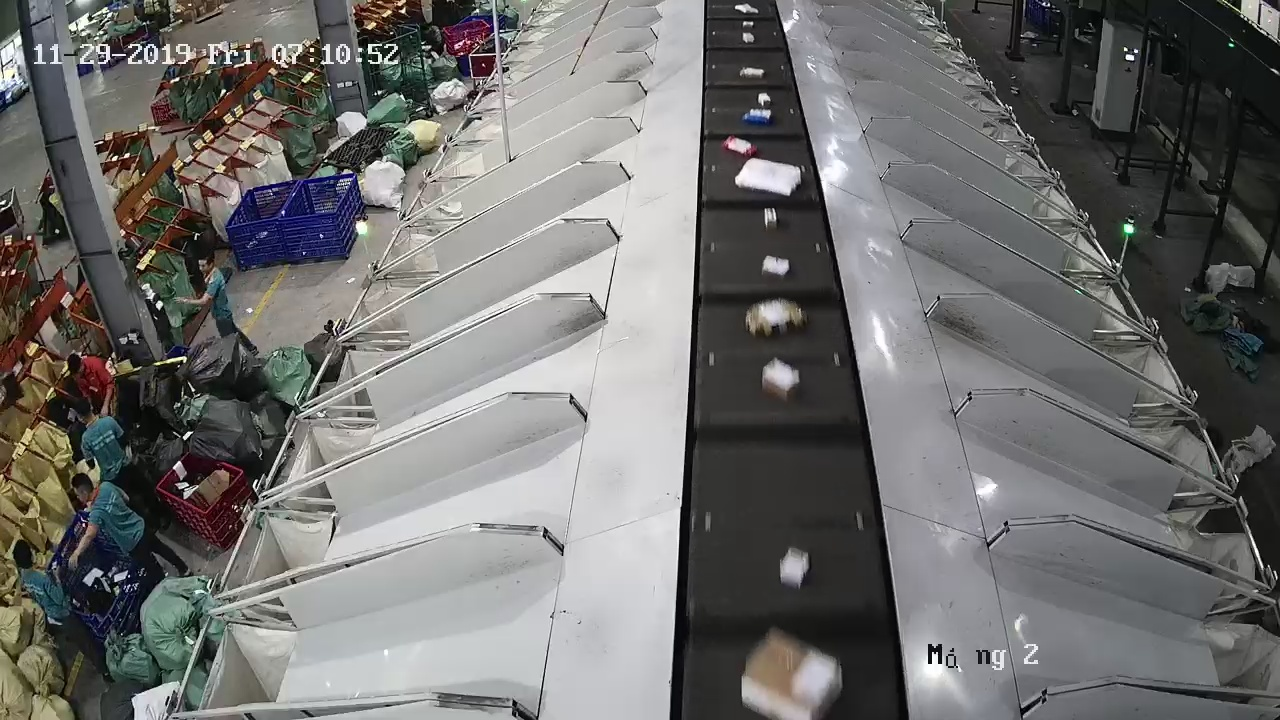parcel: (734, 157, 802, 197), (745, 298, 809, 340), (762, 360, 801, 405), (779, 546, 810, 589), (761, 255, 790, 280), (764, 207, 778, 231)
